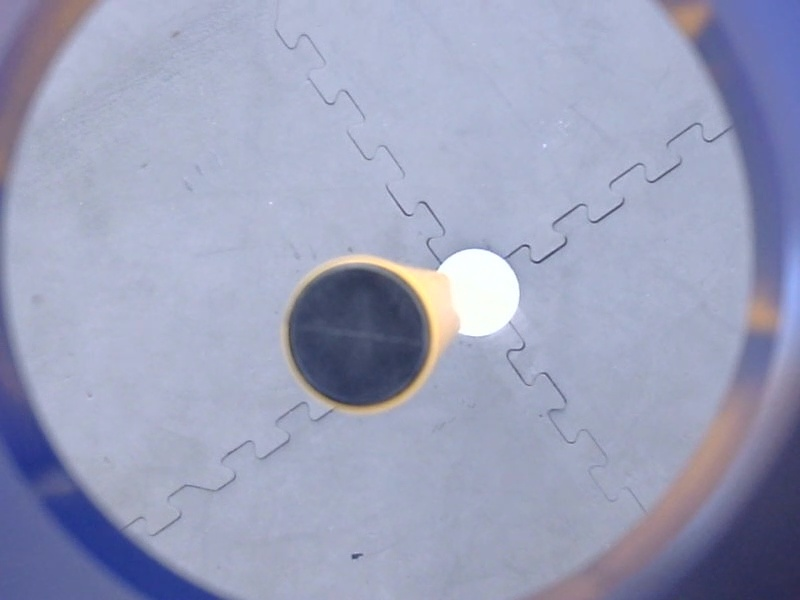tip: (276, 252, 443, 421)
